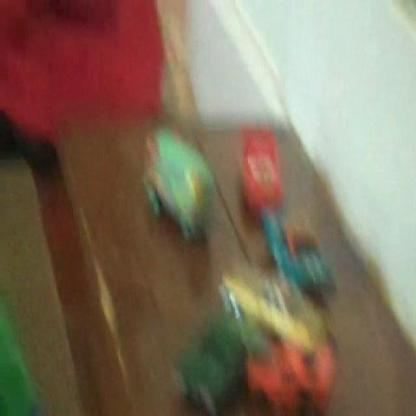other: (5, 9, 179, 134), (219, 261, 342, 394)
